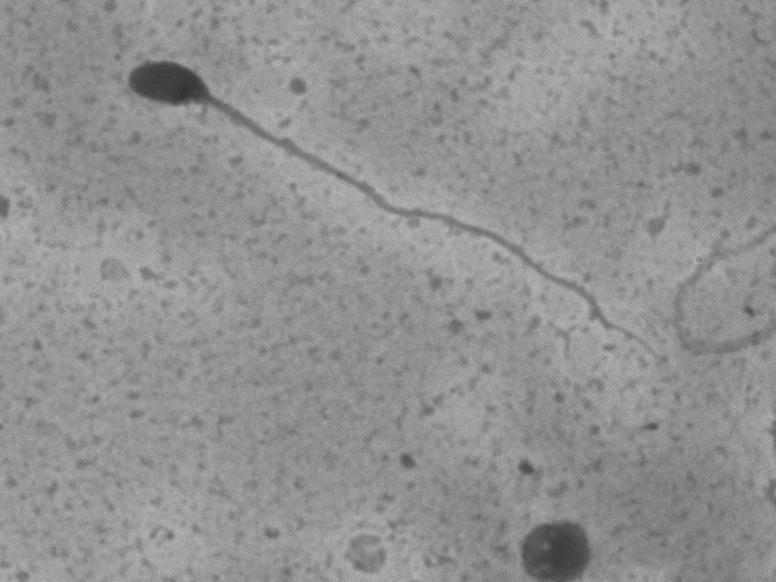Abnormal: (113, 39, 688, 374)
